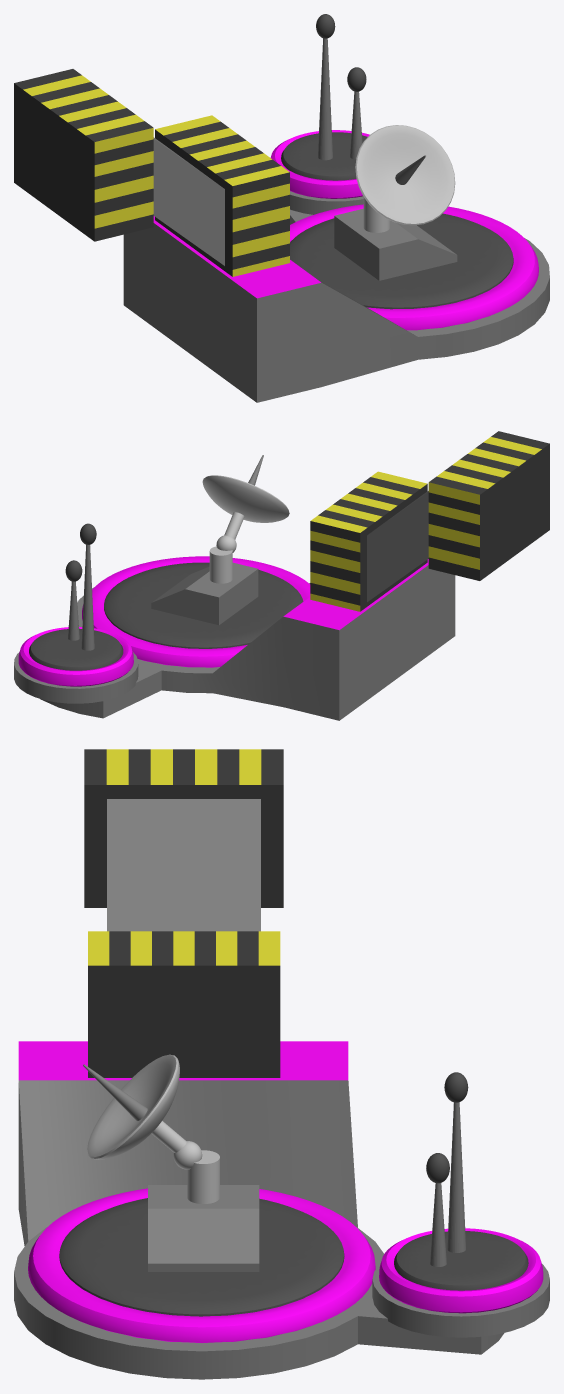
Rendered from ComSatstation.fbx.
The picture shows the model from 3 angles, top to bottom: view 1: azimuth 30°, elevation 25°; view 2: azimuth 150°, elevation 25°; view 3: azimuth 270°, elevation 25°; orthographic projection. The views are drawn at different scales.
Visible parts, largest first — view 1: Cube.062, Cylinder.074, Cylinder.078, Sphere.020, Cylinder.075, Cube.061, Cylinder.081, Cylinder.082, Cylinder.080, Cylinder.079, Sphere.022; view 2: Cube.062, Cylinder.074, Cylinder.078, Cylinder.075, Sphere.020, Cube.061, Cylinder.081, Cylinder.080, Cylinder.079, Cylinder.082, Sphere.022; view 3: Cube.062, Cylinder.074, Cylinder.078, Cylinder.075, Cube.061, Sphere.020, Cylinder.081, Cylinder.080, Cylinder.079, Cylinder.082, Sphere.022.
Part boxes in pixels (left/top/right/bottom): Cube.062: left=14, top=69, right=289, bottom=276; Cylinder.074: left=123, top=209, right=549, bottom=402; Cylinder.078: left=290, top=213, right=513, bottom=309; Sphere.020: left=355, top=125, right=455, bottom=232; Cylinder.075: left=290, top=204, right=538, bottom=330; Cube.061: left=334, top=208, right=457, bottom=280; Cylinder.081: left=281, top=132, right=367, bottom=180; Cylinder.082: left=318, top=38, right=362, bottom=160; Cylinder.080: left=270, top=130, right=369, bottom=198; Cylinder.079: left=290, top=191, right=363, bottom=214; Sphere.022: left=316, top=14, right=366, bottom=91; Cube.062: left=310, top=431, right=549, bottom=611; Cylinder.074: left=40, top=559, right=455, bottom=720; Cylinder.078: left=104, top=562, right=303, bottom=648; Cylinder.075: left=82, top=556, right=310, bottom=667; Sphere.020: left=202, top=455, right=289, bottom=583; Cube.061: left=151, top=562, right=258, bottom=625; Cylinder.081: left=29, top=628, right=123, bottom=670; Cylinder.080: left=18, top=627, right=133, bottom=686; Cylinder.079: left=14, top=652, right=138, bottom=703; Cylinder.082: left=68, top=544, right=94, bottom=650; Sphere.022: left=65, top=523, right=96, bottom=581; Cube.062: left=84, top=749, right=283, bottom=1077; Cylinder.074: left=14, top=1041, right=504, bottom=1379; Cylinder.078: left=59, top=1198, right=344, bottom=1316; Cylinder.075: left=28, top=1188, right=375, bottom=1342; Cube.061: left=148, top=1185, right=259, bottom=1271; Sphere.020: left=83, top=1054, right=219, bottom=1203; Cylinder.081: left=394, top=1231, right=528, bottom=1290; Cylinder.080: left=379, top=1228, right=543, bottom=1313; Cylinder.079: left=372, top=1264, right=549, bottom=1337; Cylinder.082: left=430, top=1102, right=465, bottom=1266; Sphere.022: left=426, top=1072, right=468, bottom=1183.
Bounding box in the file's own units: 171 × 92.85 × 133.
